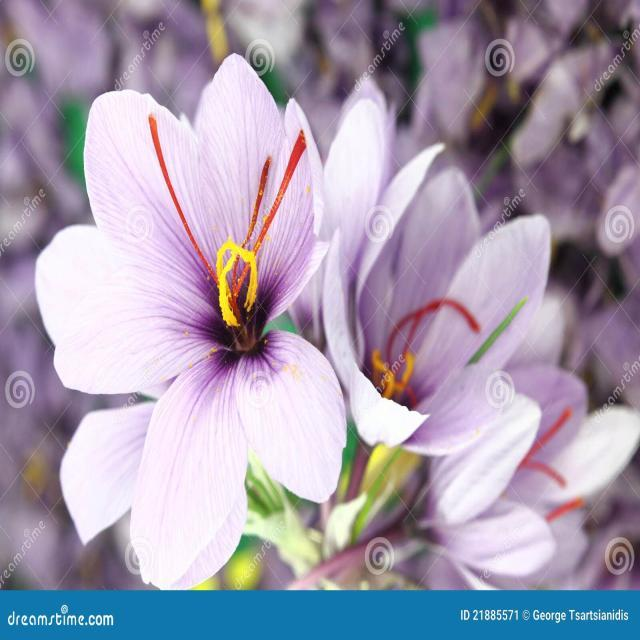Flower: (36, 68, 343, 590), (312, 96, 519, 456), (408, 292, 616, 564)
stigma: (145, 105, 210, 281), (388, 292, 478, 371), (274, 127, 312, 255), (239, 149, 275, 241), (524, 402, 581, 460)
